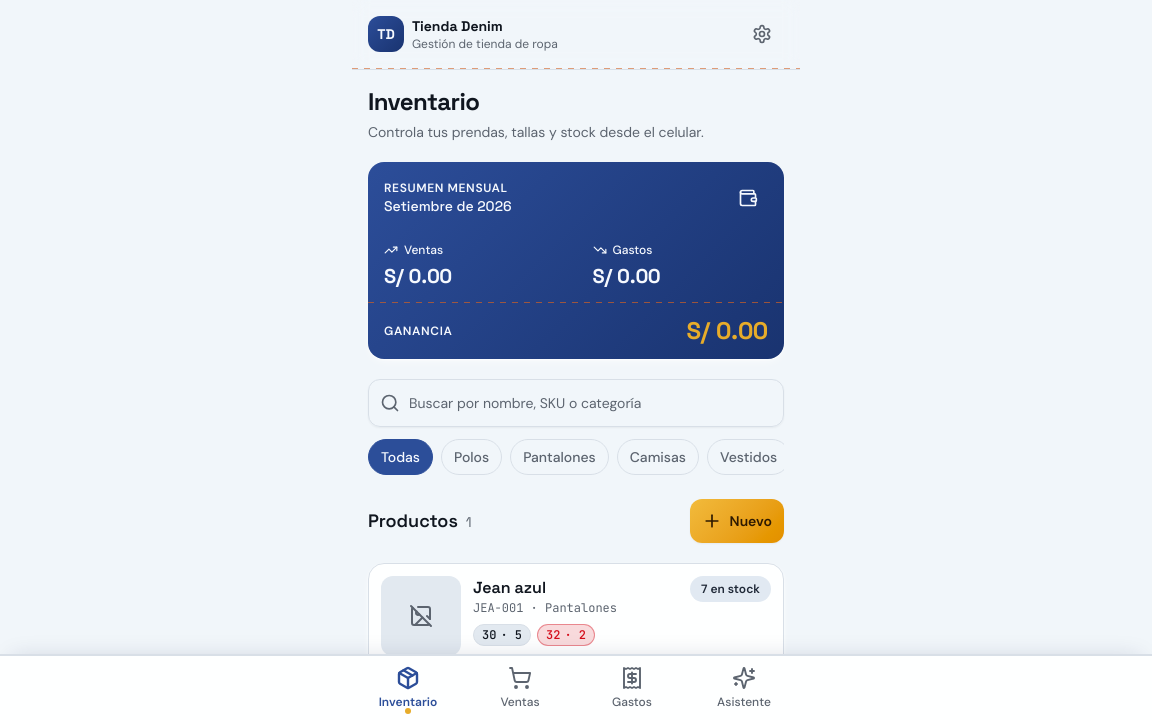
Test: App › mantiene el resumen del mes visible en Inventario, Ventas y Gastos
The image size is (1152, 720).
Expected: the element with test id "summary.card" is shown, [368, 162, 784, 359]
Click the button "Ventas": [520, 688] box [464, 656, 576, 719]
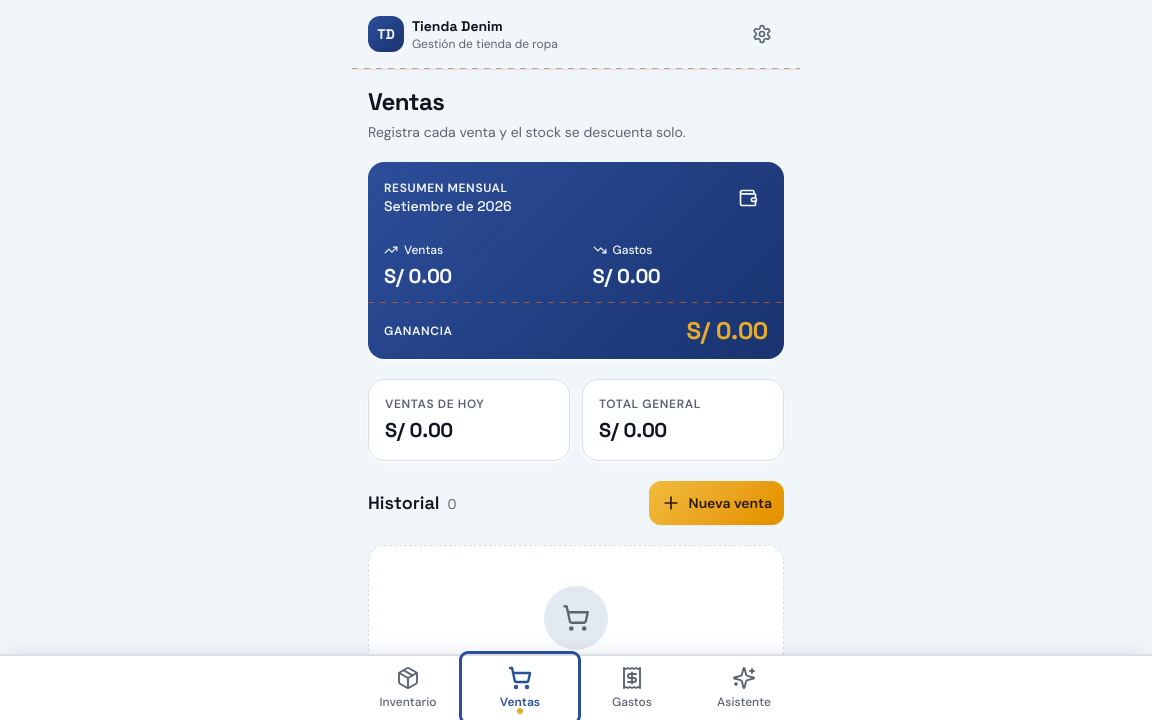
Expected: the element with test id "summary.card" is shown, [368, 162, 784, 359]
Click the button "Gastos": [632, 688] box [576, 656, 688, 719]
(page scrolled)
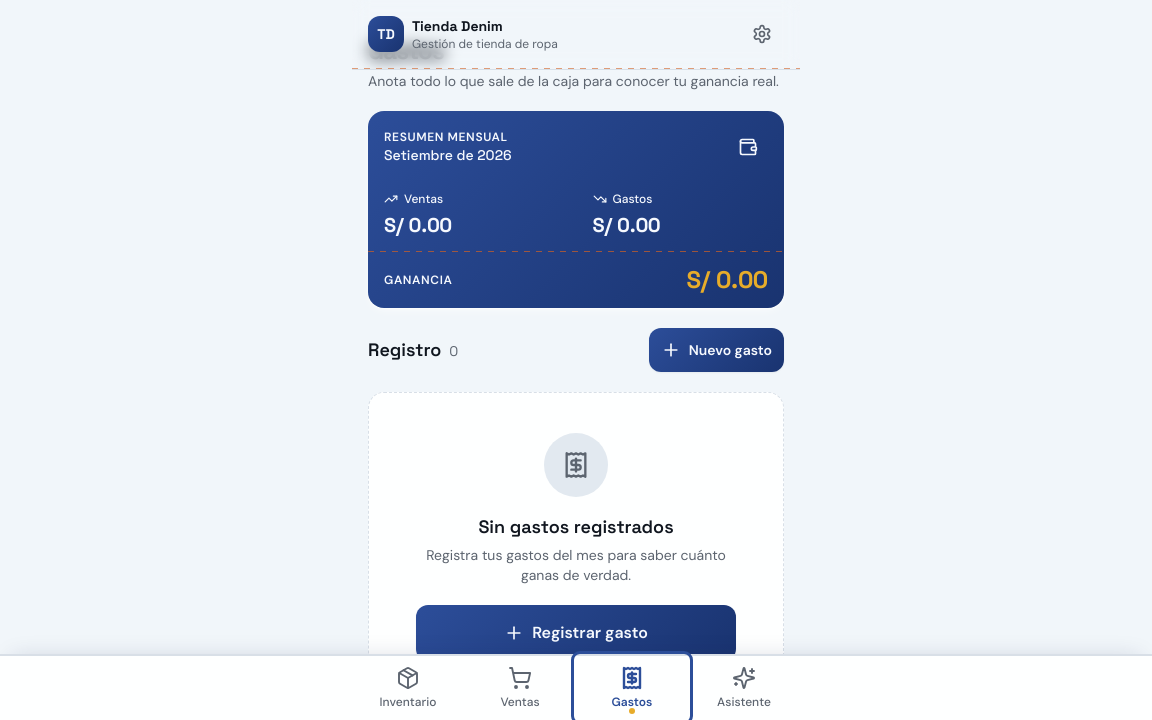
Expected: the element with test id "summary.card" is shown, [368, 111, 784, 308]
Result: the element with test id "gastos.page" is shown at [352, 19, 800, 702]
